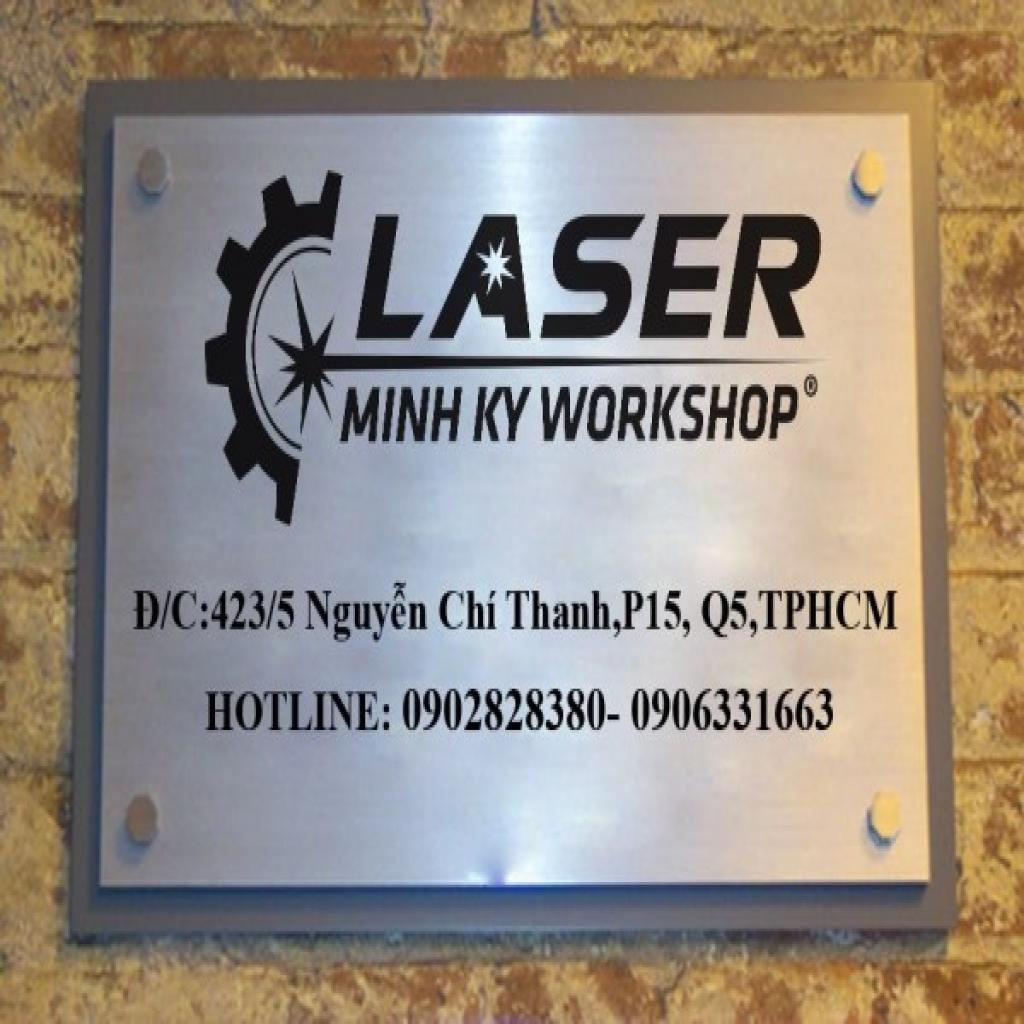text: (348, 191, 833, 348), (538, 377, 804, 454), (400, 684, 626, 738), (626, 684, 842, 738), (202, 681, 394, 740), (302, 573, 432, 650), (336, 376, 466, 452), (758, 583, 901, 637), (466, 376, 538, 452), (621, 583, 695, 647), (130, 580, 213, 637), (212, 583, 298, 637), (698, 580, 761, 648), (435, 580, 500, 637)
